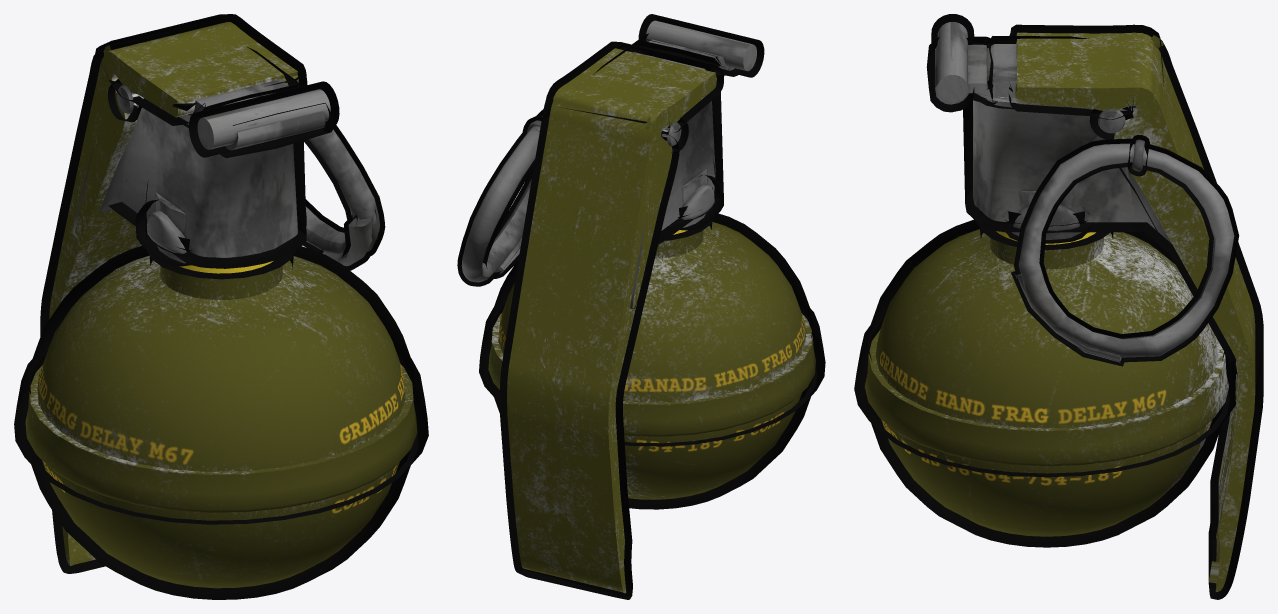
The model's file is toon_granade.glb.
3 views of the same model, side by side, from view 1: azimuth 30°, elevation 25°; view 2: azimuth 150°, elevation 25°; view 3: azimuth 270°, elevation 25° (orthographic). The views are drawn at different scales.
Parts seen in each view (by area): view 1: granade_0, top_1, latch_2; view 2: top_1, granade_0, latch_2; view 3: granade_0, top_1, latch_2.
Boxes of the visible parts, left/top/right/bottom form: granade_0: left=14, top=94, right=428, bottom=599; top_1: left=40, top=14, right=339, bottom=573; latch_2: left=303, top=125, right=385, bottom=270; top_1: left=499, top=14, right=764, bottom=599; granade_0: left=479, top=92, right=825, bottom=509; latch_2: left=457, top=109, right=543, bottom=286; granade_0: left=854, top=93, right=1237, bottom=547; top_1: left=926, top=14, right=1263, bottom=599; latch_2: left=1011, top=135, right=1239, bottom=366.
Size of the model in its own units: 0.7911 by 1.19 by 0.8406.
Materials: 2 (1 with a texture image).
